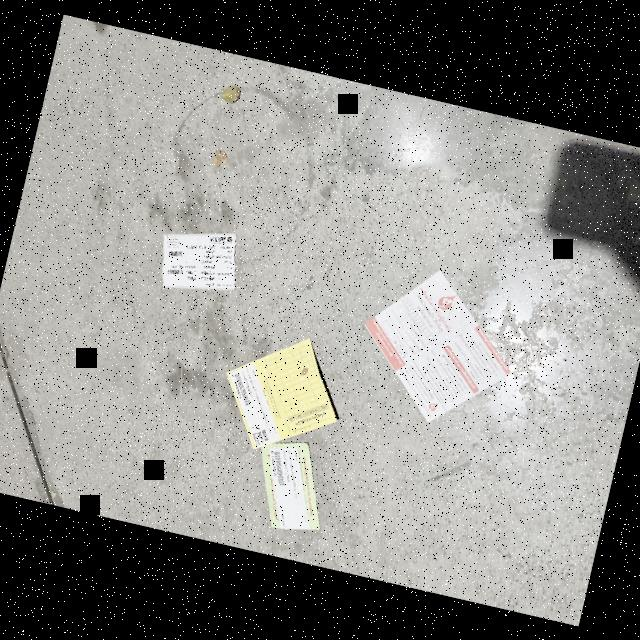scrap_paper: (334, 244, 526, 441), (207, 315, 357, 466), (234, 433, 344, 548), (140, 209, 246, 303)
